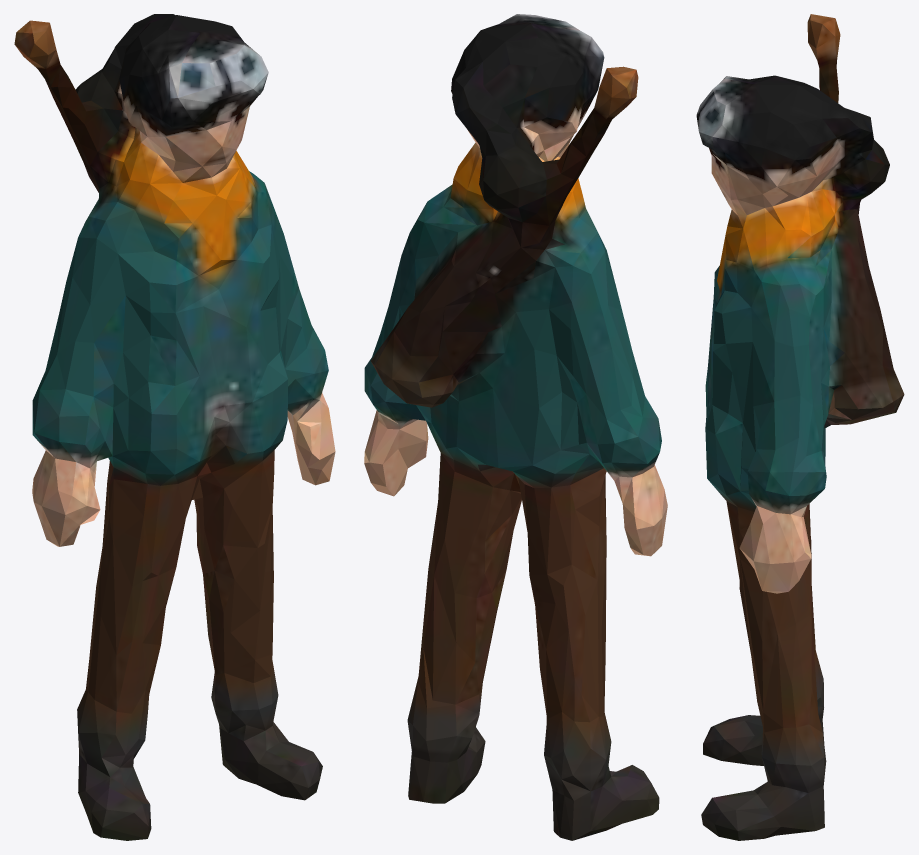
File: habitant-loin.glb
The picture shows the model from 3 angles, left to right: view 1: azimuth 30°, elevation 25°; view 2: azimuth 150°, elevation 25°; view 3: azimuth 270°, elevation 25°; orthographic projection. The views are drawn at different scales.
Visible parts, largest first — view 1: habitant; view 2: habitant; view 3: habitant.
Boxes of the visible parts, box(x1,y1,x2,y2) form: habitant: box(14, 14, 335, 840); habitant: box(364, 14, 667, 840); habitant: box(696, 14, 904, 840).
Bounding box in the file's own units: 0.389 × 1 × 0.2614.
1 material, 1 textured.
